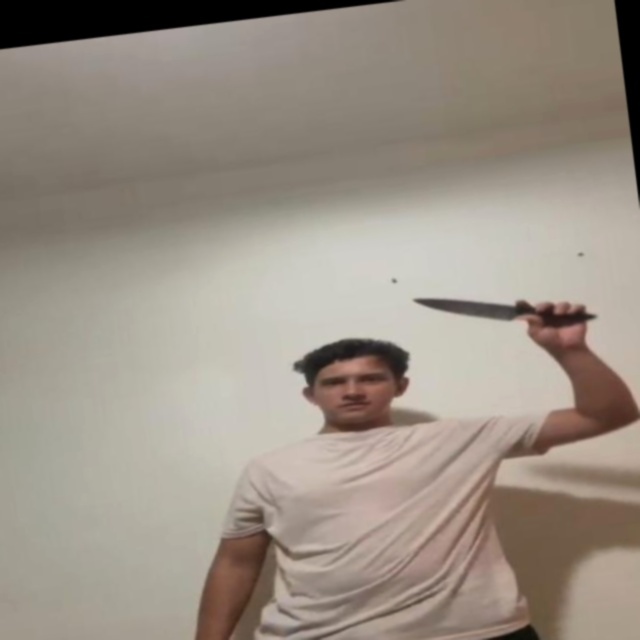Sharp-Object: (417, 285, 516, 331)
